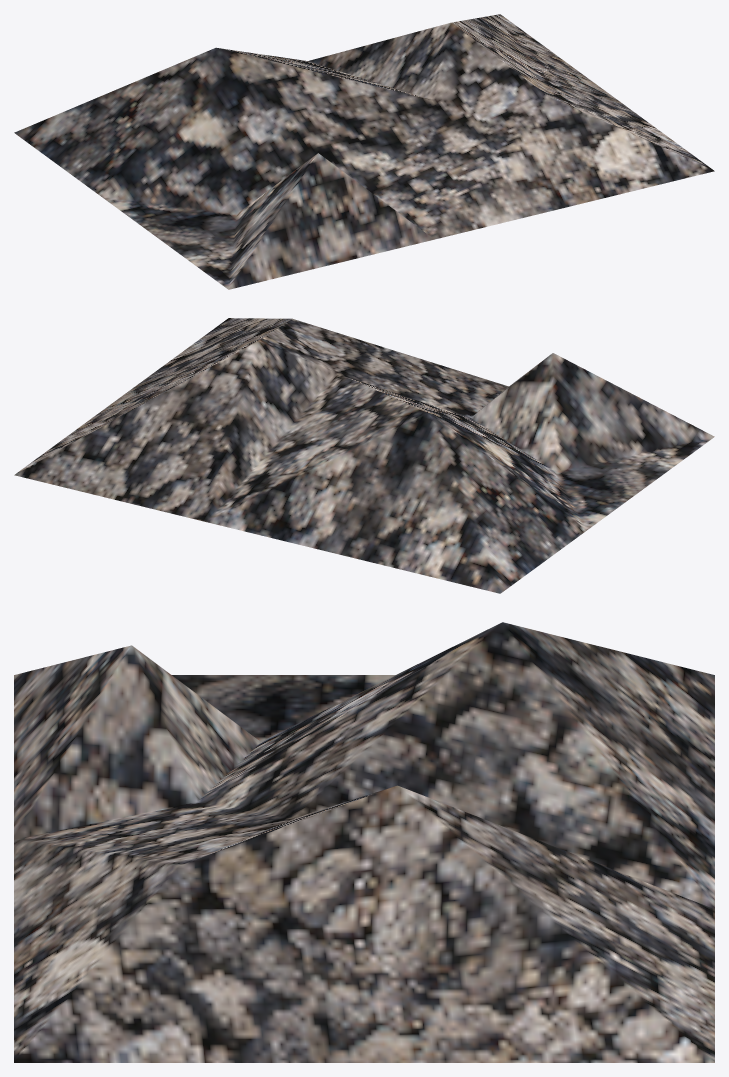
Rendered from Gravel.fbx.
The picture shows the model from 3 angles, top to bottom: view 1: azimuth 30°, elevation 25°; view 2: azimuth 150°, elevation 25°; view 3: azimuth 270°, elevation 25°; orthographic projection. The views are drawn at different scales.
Visible parts, largest first — view 1: Gravel; view 2: Gravel; view 3: Gravel.
Boxes of the visible parts, x1,y1,x2,y2 form: Gravel: [14, 14, 714, 289]; Gravel: [14, 318, 714, 593]; Gravel: [14, 622, 714, 1062].
Size of the model in its own units: 156 by 30.37 by 119.
